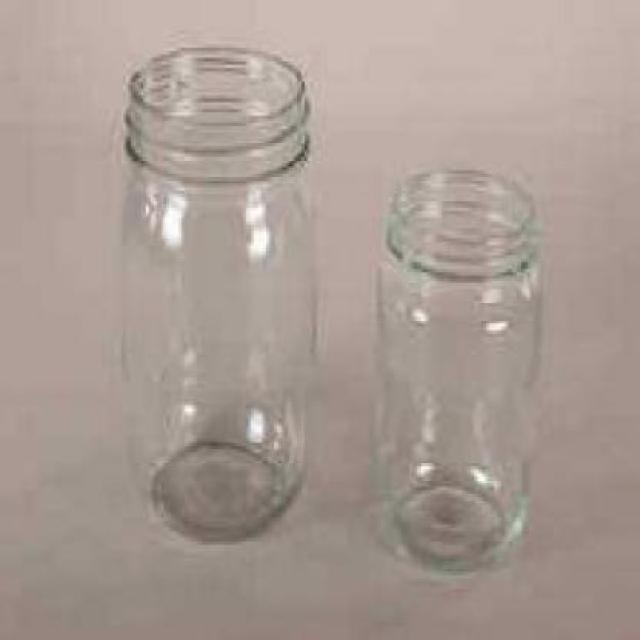kaca: (118, 48, 311, 534), (377, 166, 538, 572)
